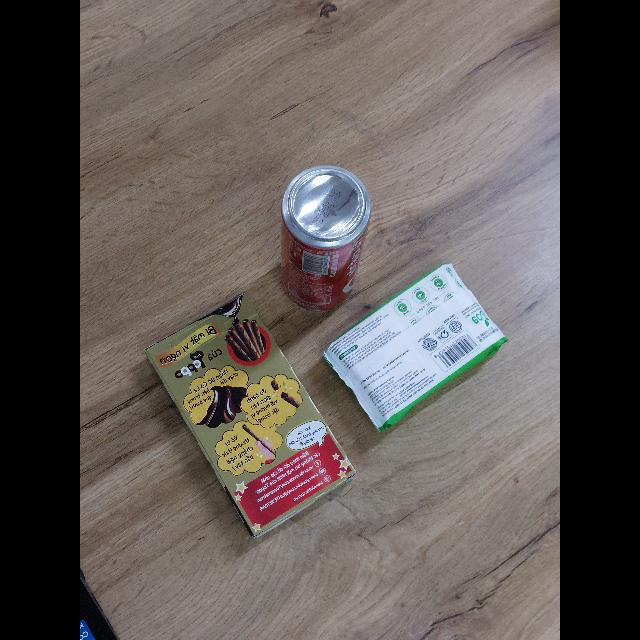banh_toppo_socola: (146, 294, 356, 537)
coca_cola: (282, 166, 371, 311)
khan_giay: (324, 264, 507, 431)
